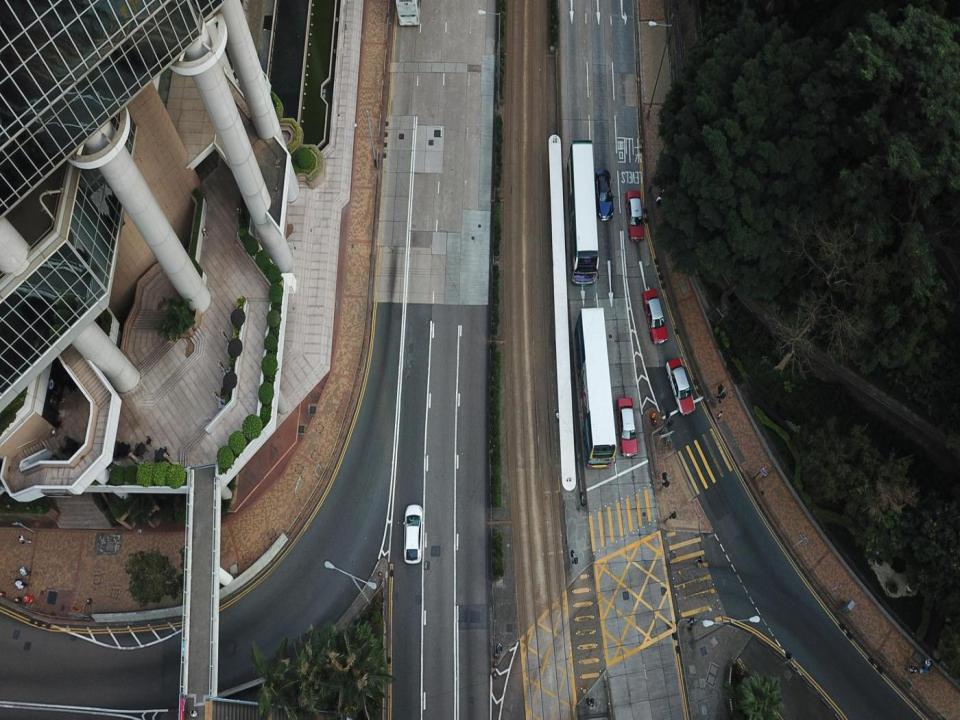bus: (575, 306, 620, 469), (566, 136, 597, 289)
car: (663, 356, 697, 415), (640, 288, 670, 344), (401, 503, 423, 566), (616, 398, 638, 458), (625, 191, 648, 241), (593, 170, 616, 220)
